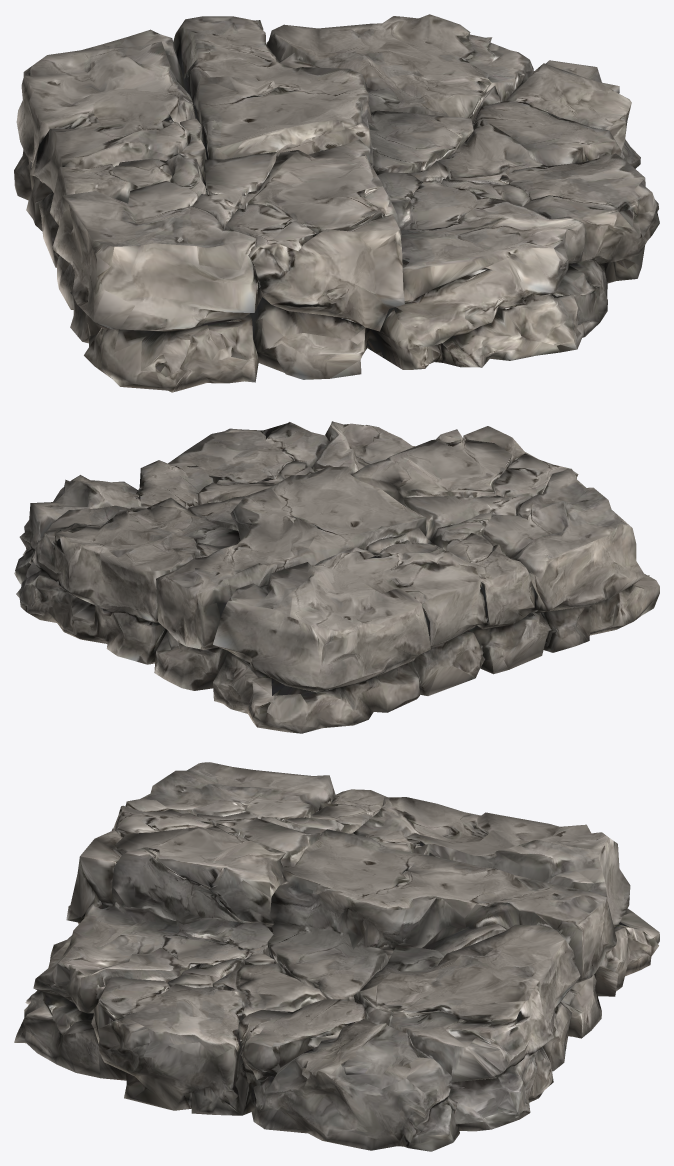
The model's file is outcrop_b_lod1.glb.
3 renders of one model, top to bottom at view 1: azimuth 30°, elevation 25°; view 2: azimuth 150°, elevation 25°; view 3: azimuth 270°, elevation 25°, orthographic. The views are drawn at different scales.
Visible parts, largest first — view 1: outcrop_b_lod1; view 2: outcrop_b_lod1; view 3: outcrop_b_lod1.
Part boxes in pixels (x1,y1,x2,y2): outcrop_b_lod1: (14,14,659,392); outcrop_b_lod1: (14,421,659,733); outcrop_b_lod1: (14,762,659,1151).
Bounding box in the file's own units: 17.02 × 3.83 × 16.24.
Materials: 1 (1 with a texture image).
